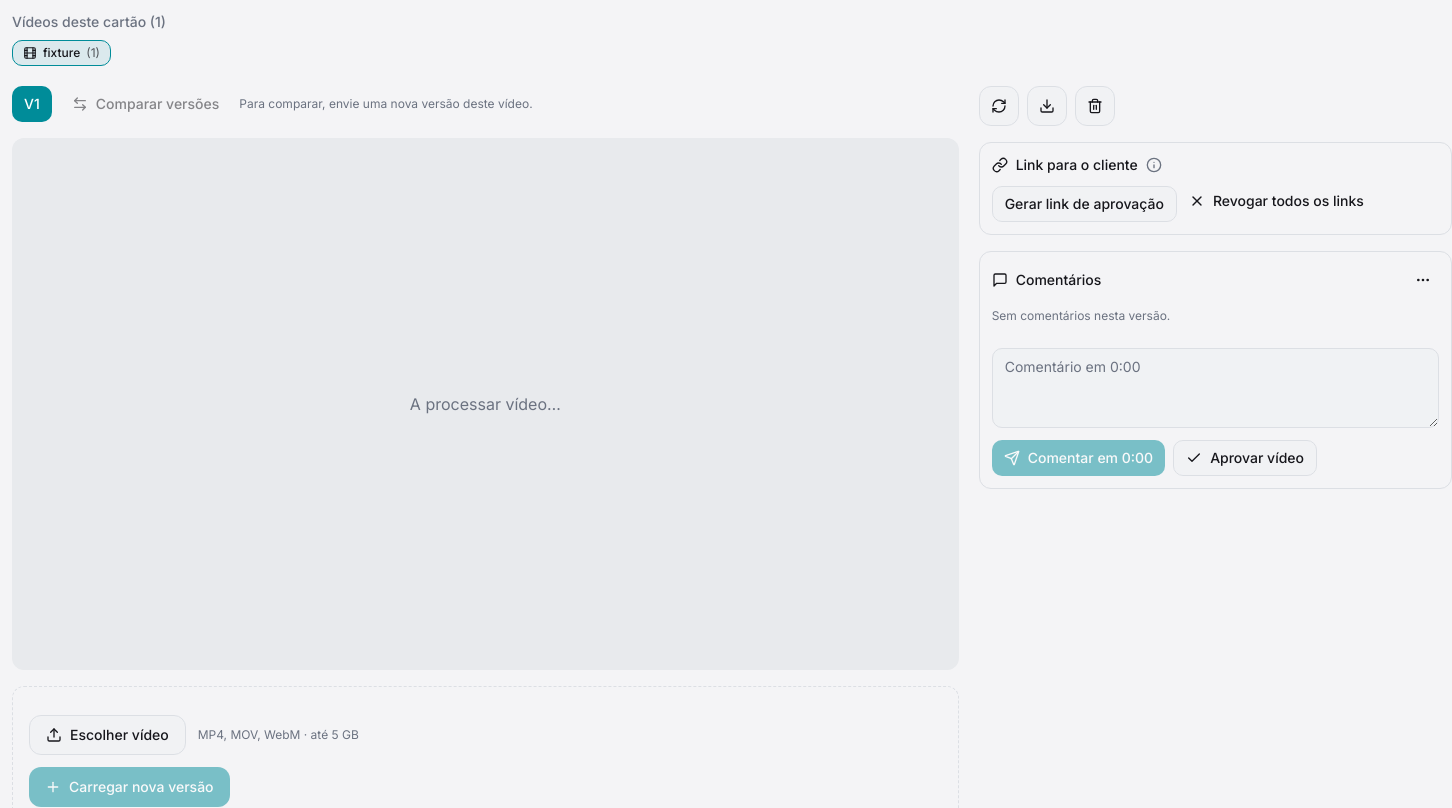
Test: canonical video studio controls › revokes the generated link without revoking the entire project scope
Click the button "Gerar link de aprovação": click(1084, 204) top-left (992, 186), bottom-right (1177, 222)
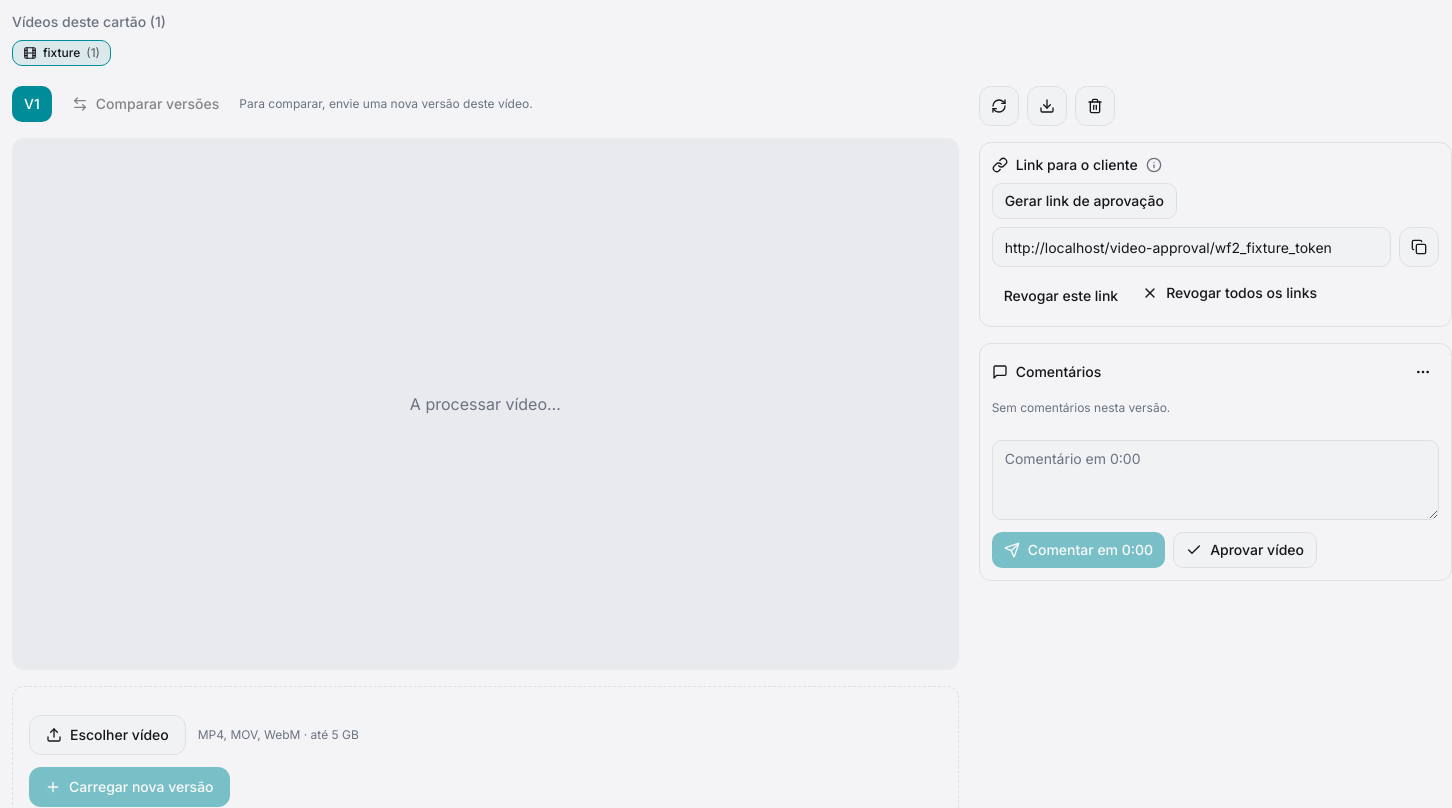
Result: the field showing "wf2_fixture_token" is shown at top-left (992, 227), bottom-right (1391, 267)
Click the button "Revogar este link": click(1061, 296) top-left (992, 278), bottom-right (1130, 314)
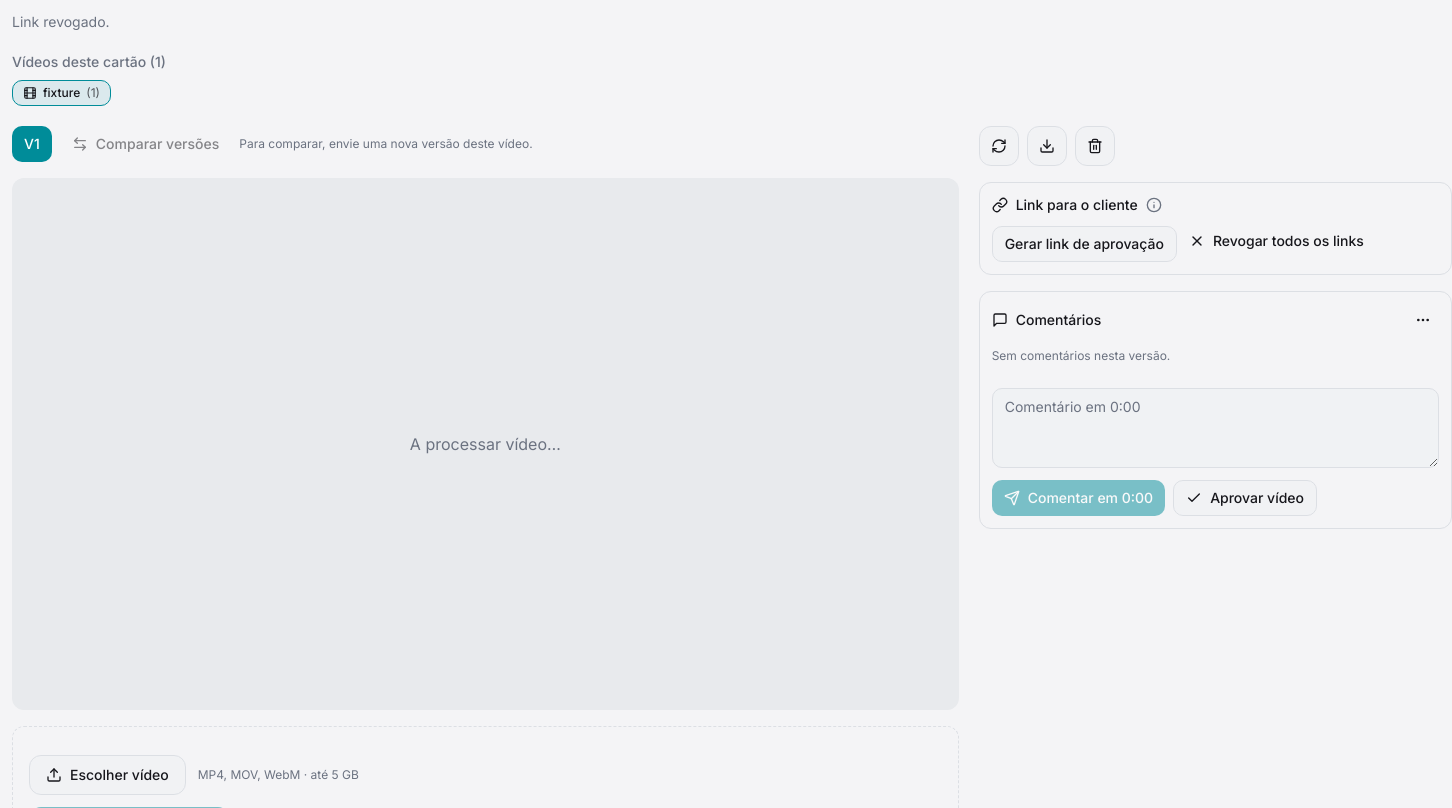
Expected: the field showing "wf2_fixture_token" is not shown
Result: the text "Link revogado." is shown at top-left (12, 13), bottom-right (110, 30)
